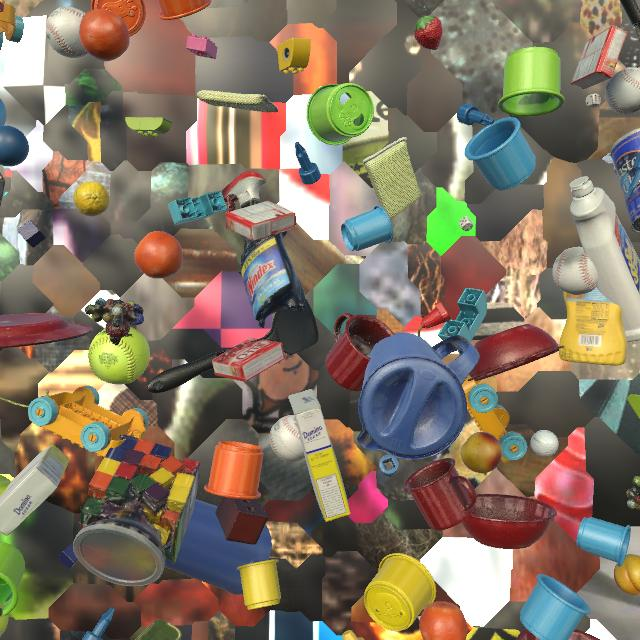ycb_002_master_chef_can: (610, 128, 640, 233)
ycb_004_sugar_box: (288, 389, 351, 522), (0, 444, 70, 535)
ycb_006_mustard_bottle: (559, 287, 628, 365), (342, 630, 364, 640)
ycb_008_pudding_box: (0, 173, 5, 206)
ycb_009_gelatin_box: (570, 26, 628, 89), (212, 338, 286, 382), (225, 200, 296, 241)
ycb_010_potted_meat_can: (135, 620, 182, 640)
ycb_012_strawberry: (414, 16, 443, 50)
ycb_014_lemon: (73, 181, 110, 217)
ycb_015_peach: (461, 432, 502, 473), (614, 554, 640, 595)
ycb_016_pear: (0, 475, 11, 496)
ycb_017_orange: (79, 9, 130, 61), (134, 231, 183, 279), (419, 601, 467, 640)
